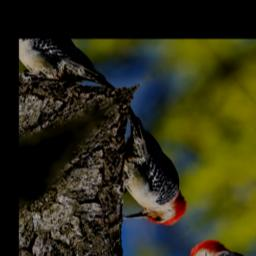Woodpecker: (67, 107, 207, 247)
